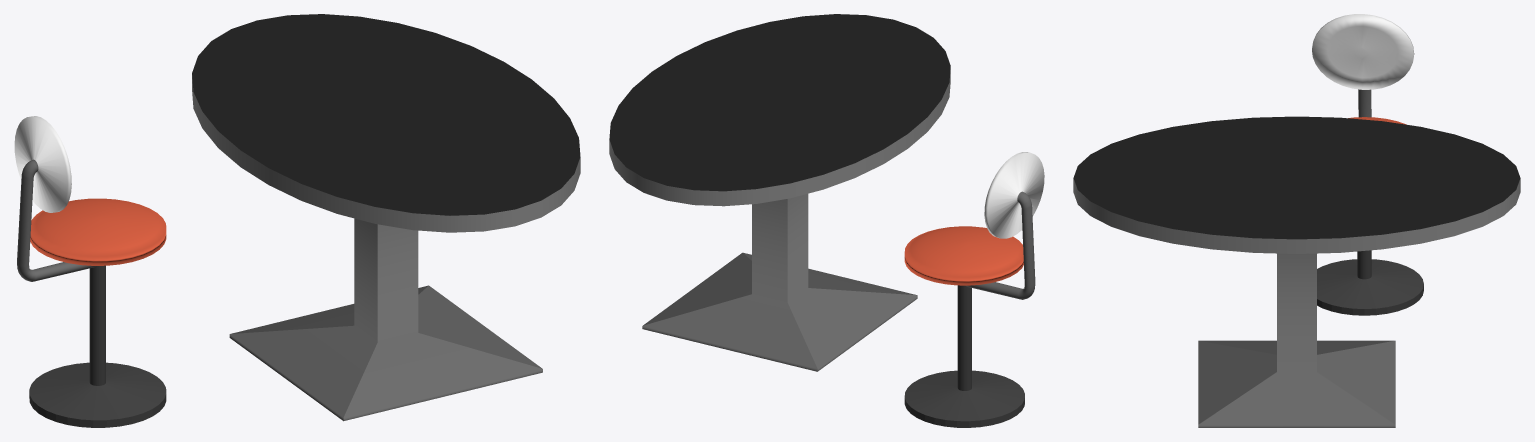
The model's file is BOWLINGMEUBILAIR.fbx.
3 renders of one model, left to right at view 1: azimuth 30°, elevation 25°; view 2: azimuth 150°, elevation 25°; view 3: azimuth 270°, elevation 25°, orthographic. The views are drawn at different scales.
Parts seen in each view (by area): view 1: Cube, Cylinder.001; view 2: Cube, Cylinder.001; view 3: Cube, Cylinder.001.
Boxes of the visible parts, x1=… form: Cube: x1=192, y1=14, x2=580, y2=421; Cylinder.001: x1=14, y1=116, x2=166, y2=427; Cube: x1=609, y1=14, x2=950, y2=371; Cylinder.001: x1=904, y1=152, x2=1044, y2=427; Cube: x1=1073, y1=116, x2=1520, y2=427; Cylinder.001: x1=1312, y1=14, x2=1423, y2=315.
Bounding box in the file's own units: 797 × 469 × 752.
